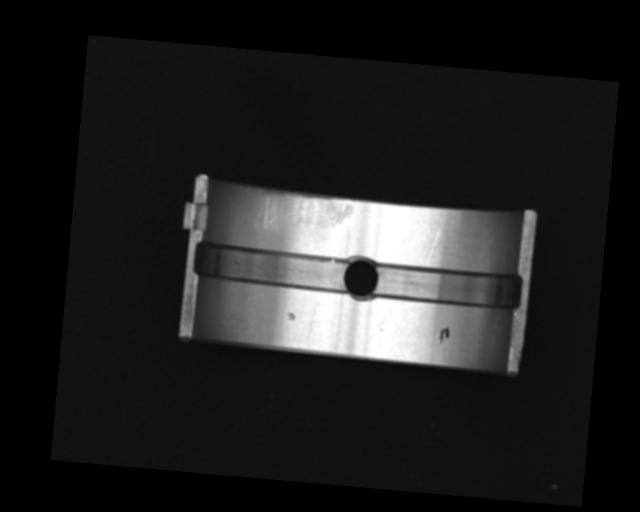blot: (438, 324, 450, 344)
bruise: (286, 311, 296, 321)
gap: (191, 240, 354, 294), (371, 260, 526, 311)
hole: (341, 251, 381, 302)
nick: (426, 226, 441, 267), (307, 308, 315, 340)
scratch: (254, 188, 355, 236)
